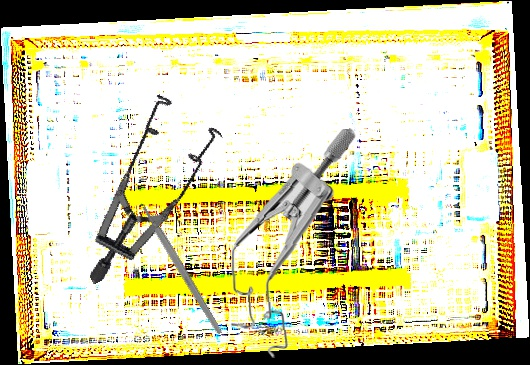Scalpel Handle: (140, 204, 224, 336)
Speculum: (30, 77, 256, 285), (221, 128, 366, 360)
